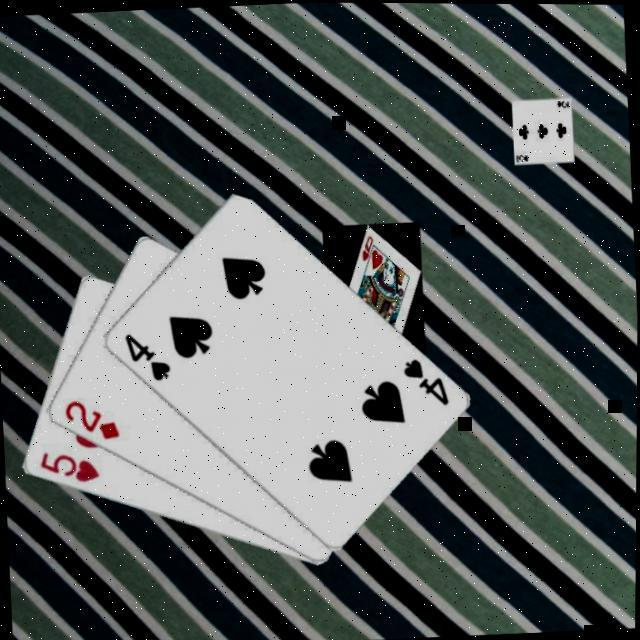2D: (62, 394, 124, 443)
4S: (400, 352, 453, 409), (122, 328, 175, 384)
5H: (38, 446, 104, 486)
